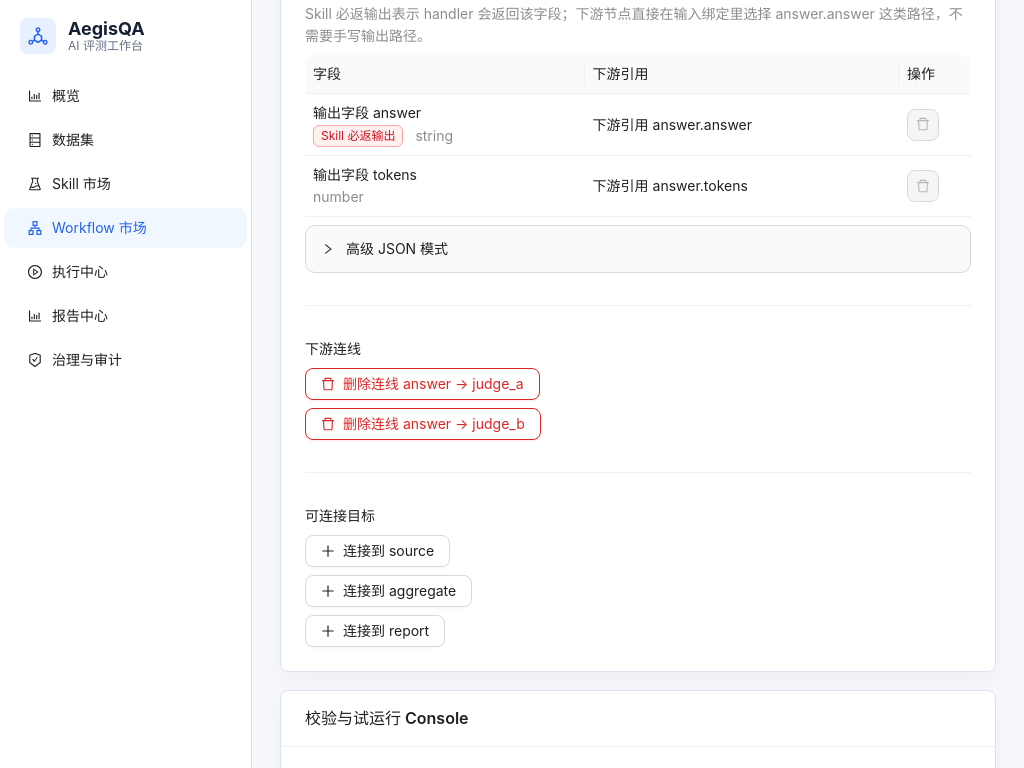
Test case: AegisQA 前端工作台 › Workflow Inspector 支持选择下游节点并新增连线
This screenshot has width=1024, height=768.
(page scrolled)
Click the button "删除连线 answer -> judge_a": (422, 384) x1=305 y1=368 x2=540 y2=400
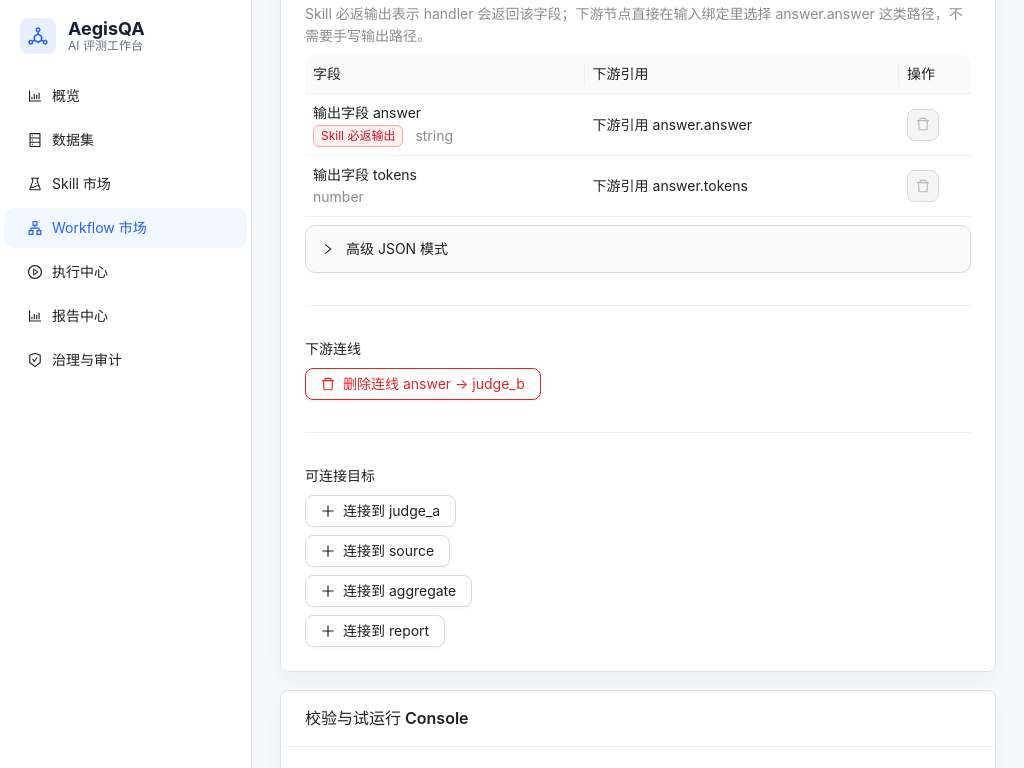
Click the button "连接到 judge_a": (381, 511) x1=305 y1=495 x2=456 y2=527
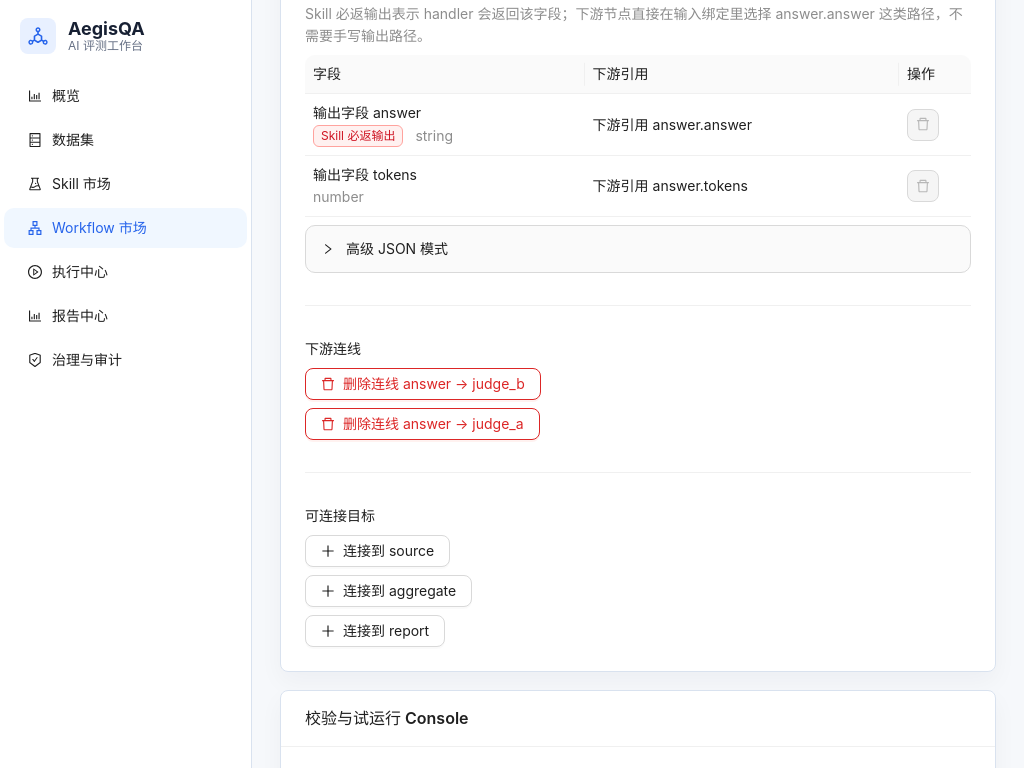
expect the button "删除连线 answer -> judge_a" is shown: met, box x1=305 y1=408 x2=540 y2=440
